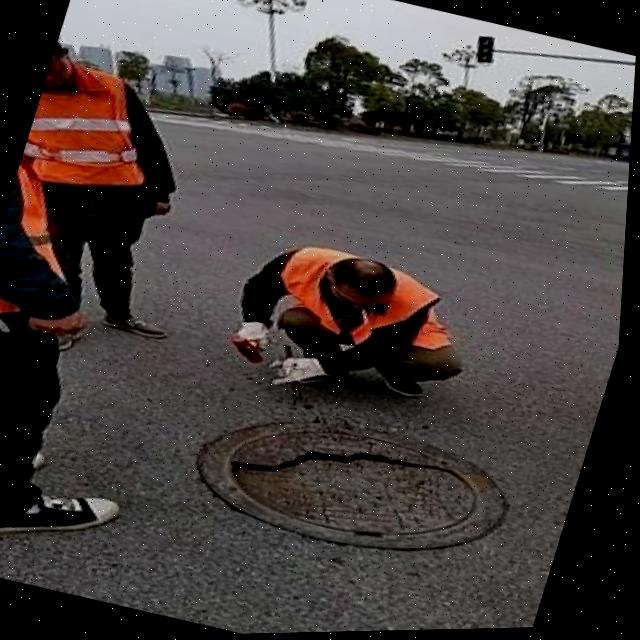manhole: (186, 379, 542, 590)
